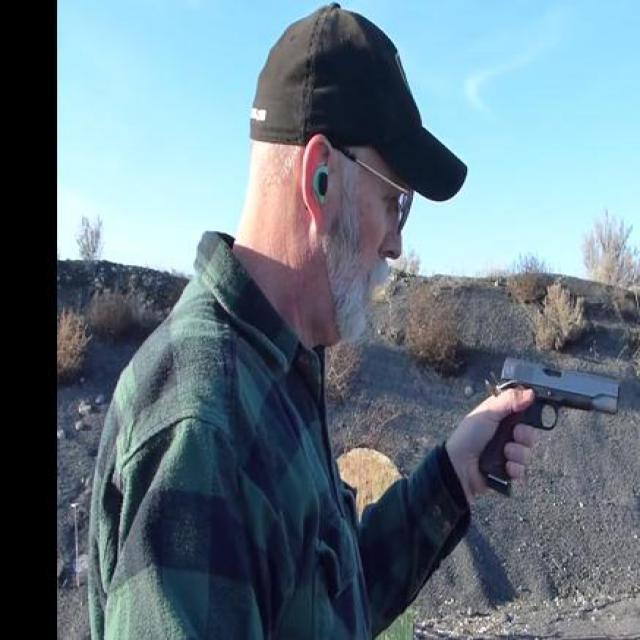gun: (478, 351, 620, 491)
